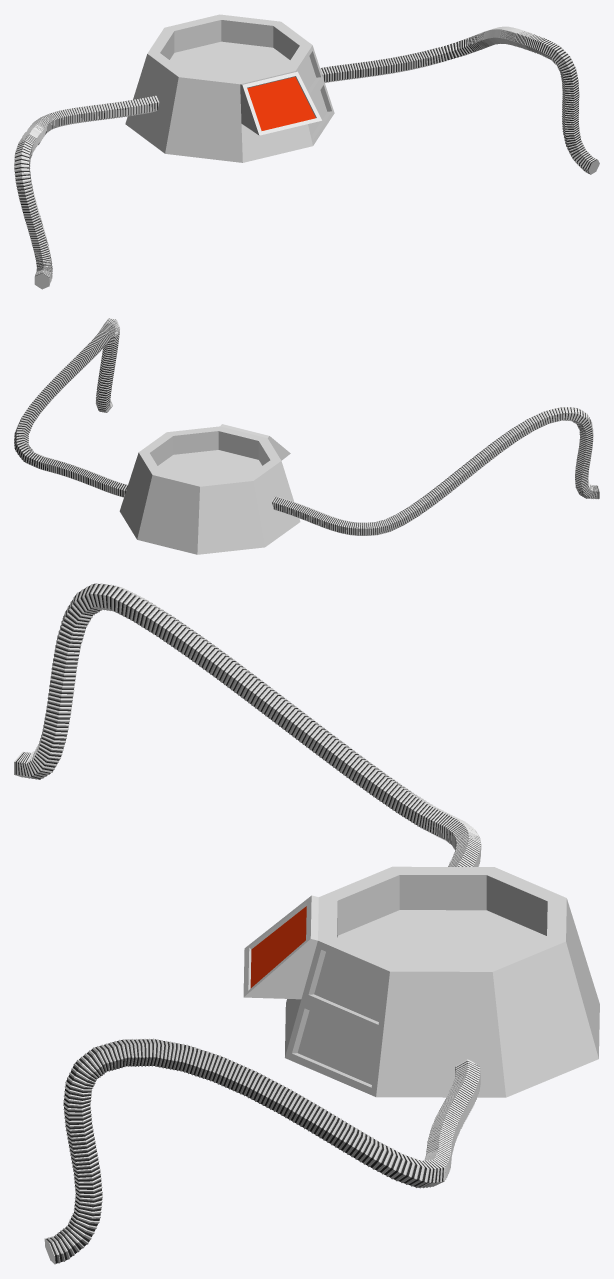
3 views of the same model, one above another, from view 1: azimuth 30°, elevation 25°; view 2: azimuth 150°, elevation 25°; view 3: azimuth 270°, elevation 25° (orthographic). The views are drawn at different scales.
Parts seen in each view (by area): view 1: Circle, Cylinder, Cylinder.001; view 2: Circle, Cylinder.001, Cylinder; view 3: Circle, Cylinder, Cylinder.001.
Part boxes in pixels (left/top/right/bottom): Circle: left=125, top=14, right=334, bottom=162; Cylinder: left=320, top=26, right=599, bottom=174; Cylinder.001: left=14, top=95, right=159, bottom=289; Circle: left=119, top=424, right=300, bottom=554; Cylinder.001: left=272, top=407, right=599, bottom=535; Cylinder: left=14, top=318, right=127, bottom=497; Circle: left=243, top=866, right=599, bottom=1097; Cylinder: left=44, top=1038, right=480, bottom=1264; Cylinder.001: left=14, top=583, right=481, bottom=866.
Size of the model in its own units: 801 by 203 by 437.
